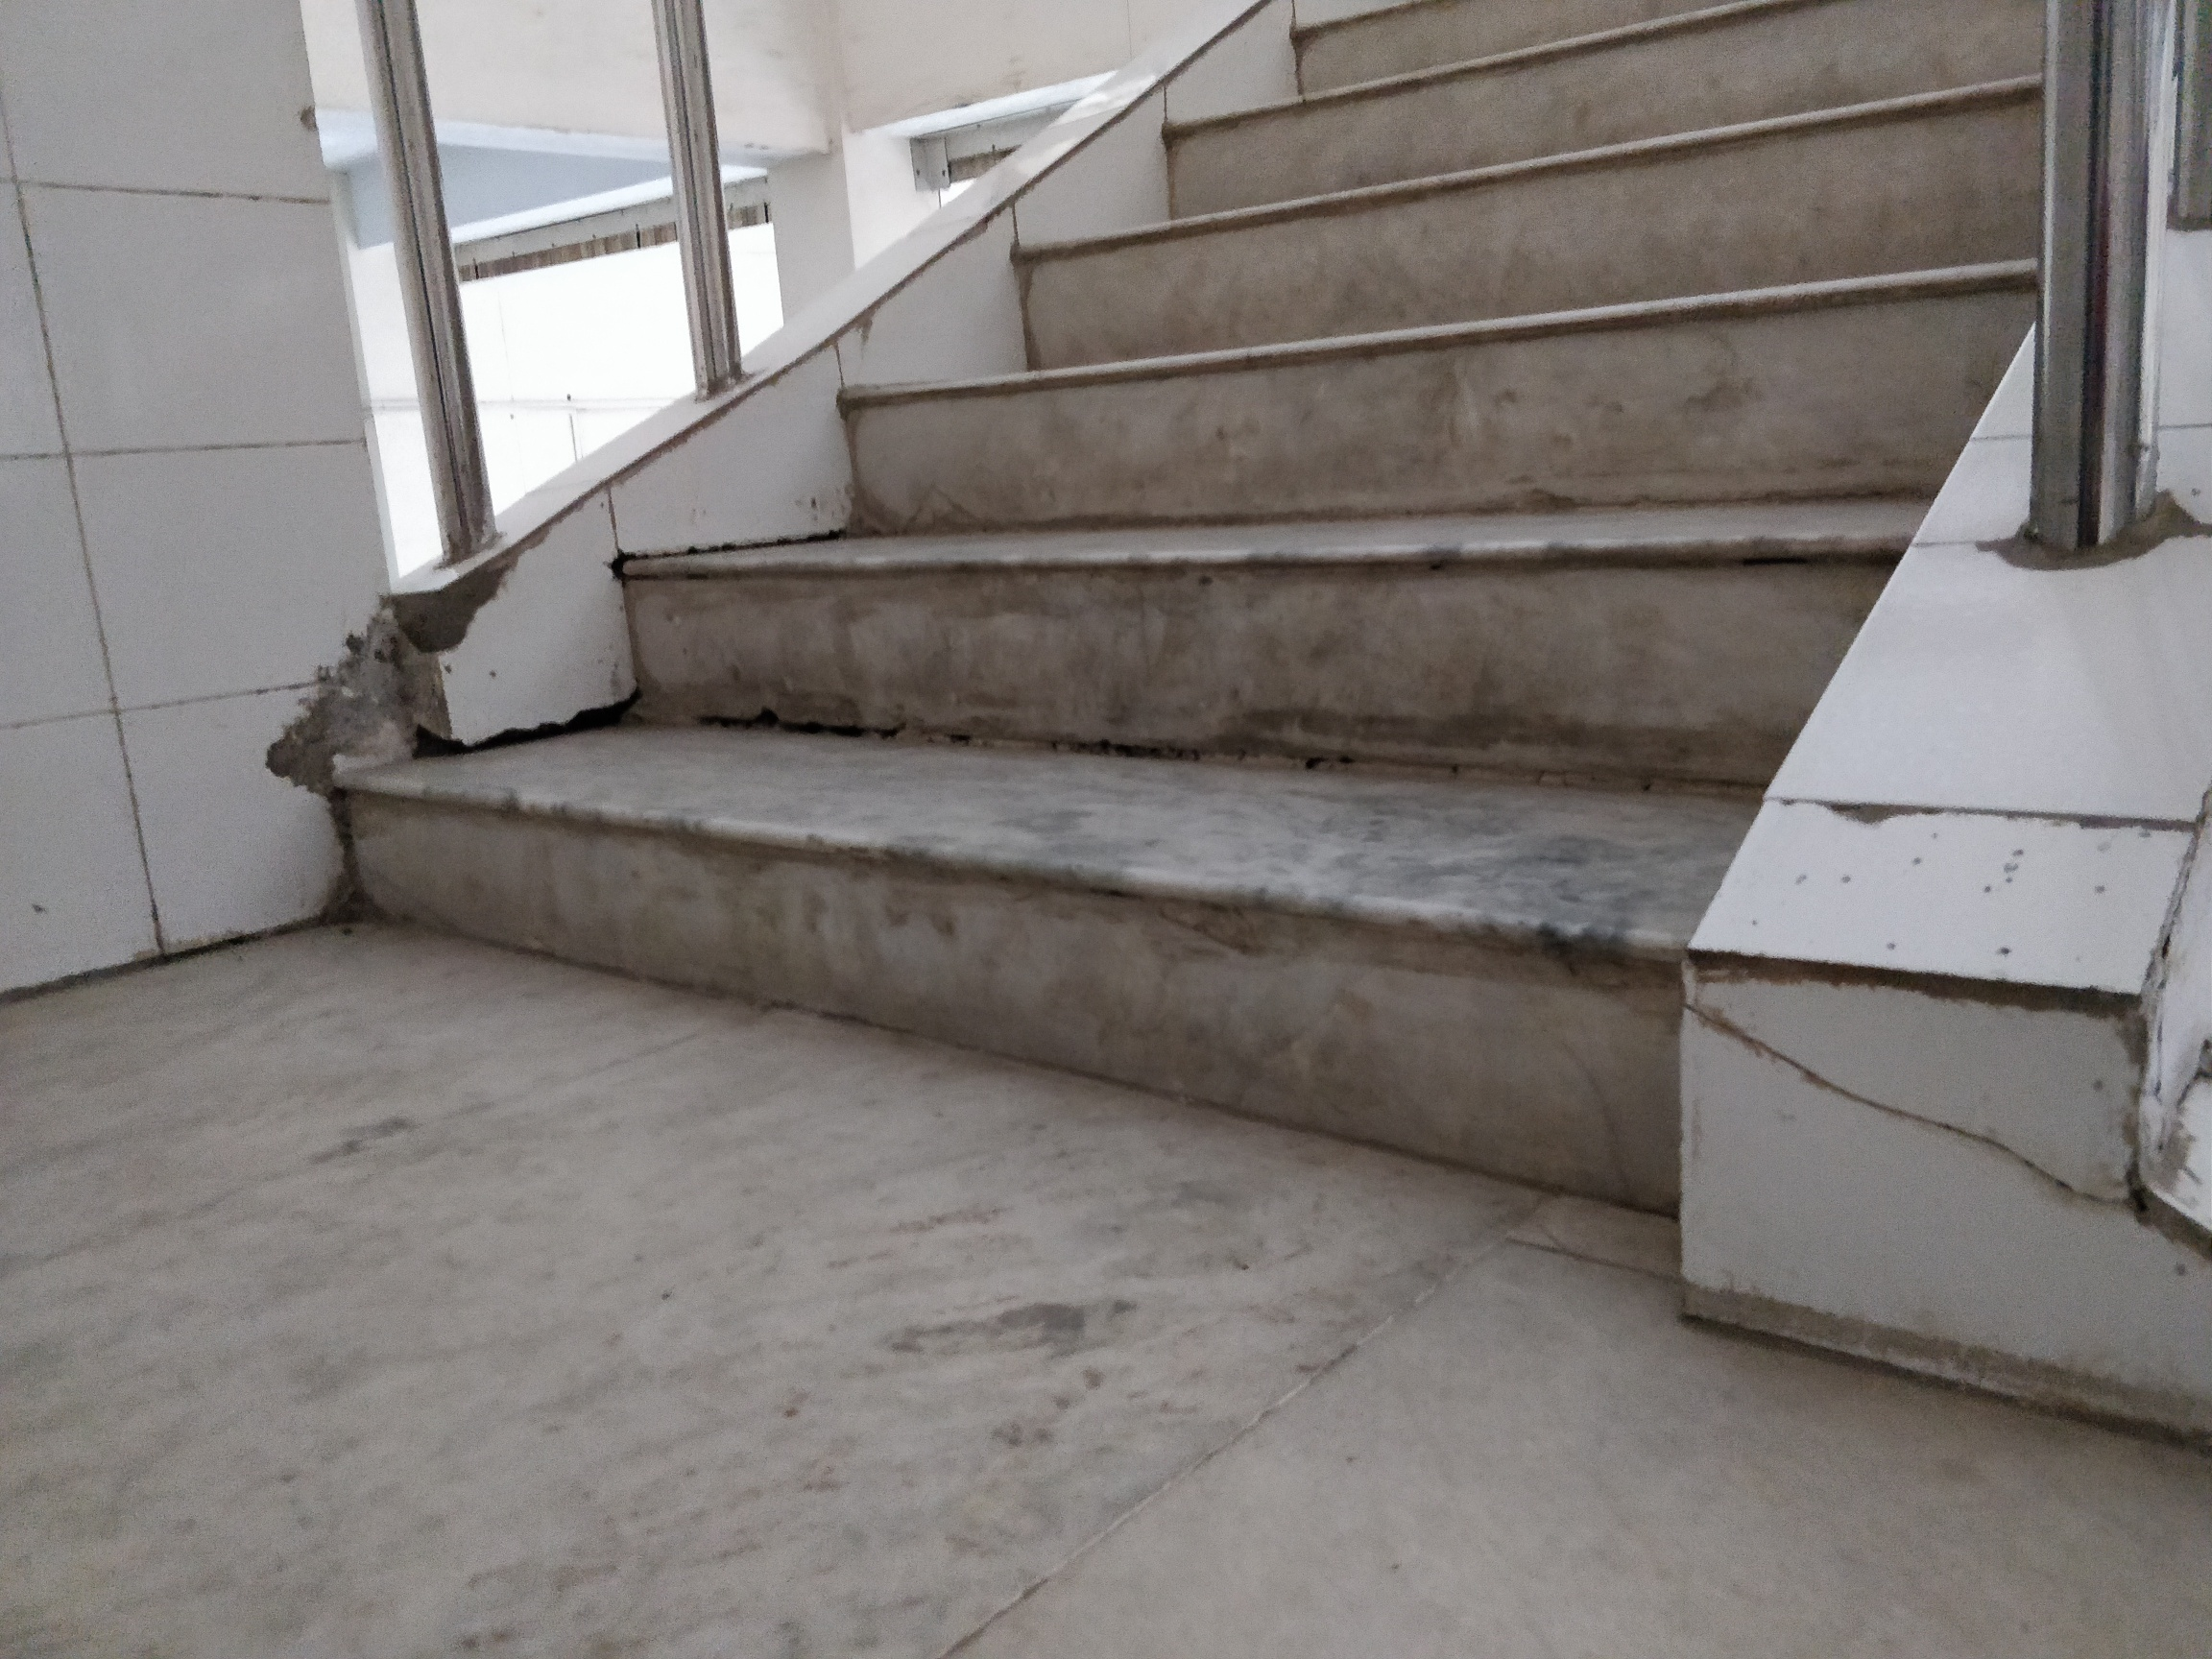stairs_up: (183, 2, 2064, 1328)
